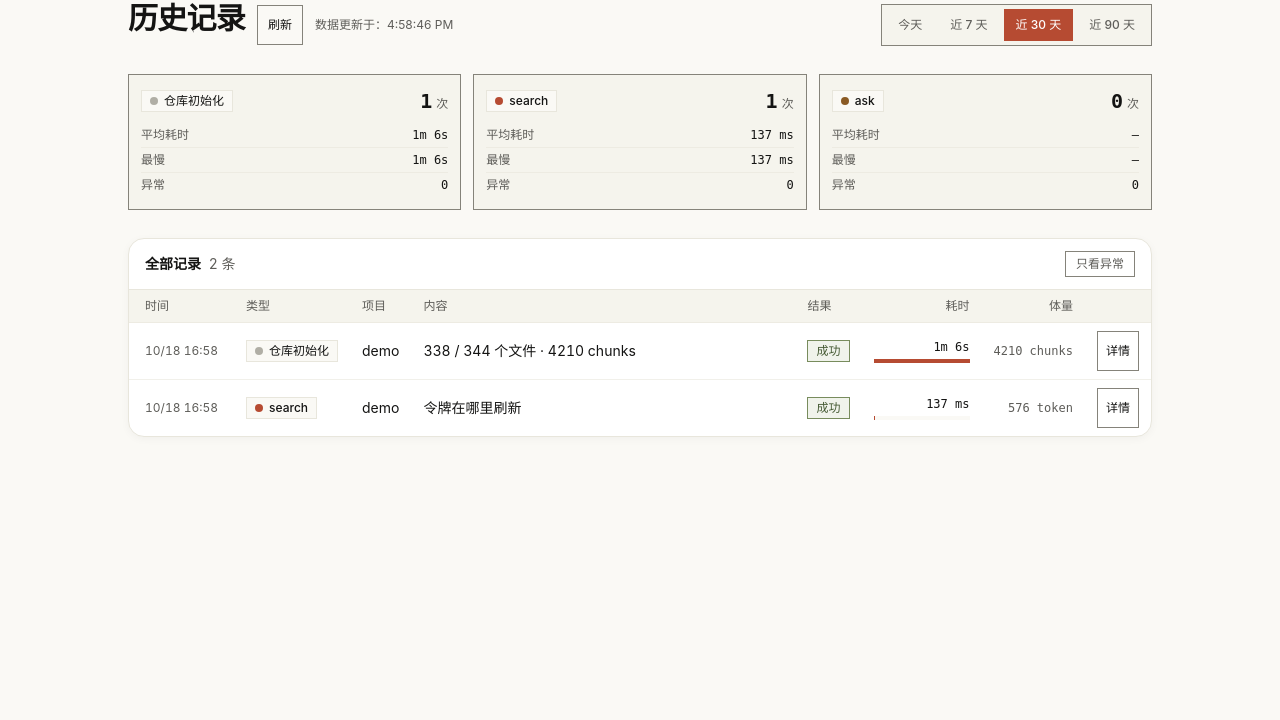
Test: §需求2 合并表格（TASK-100） › 弹窗可关闭
Click the button "详情" in the row of "令牌在哪里刷新" at (1118, 408), box x1=1097 y1=388 x2=1139 y2=428
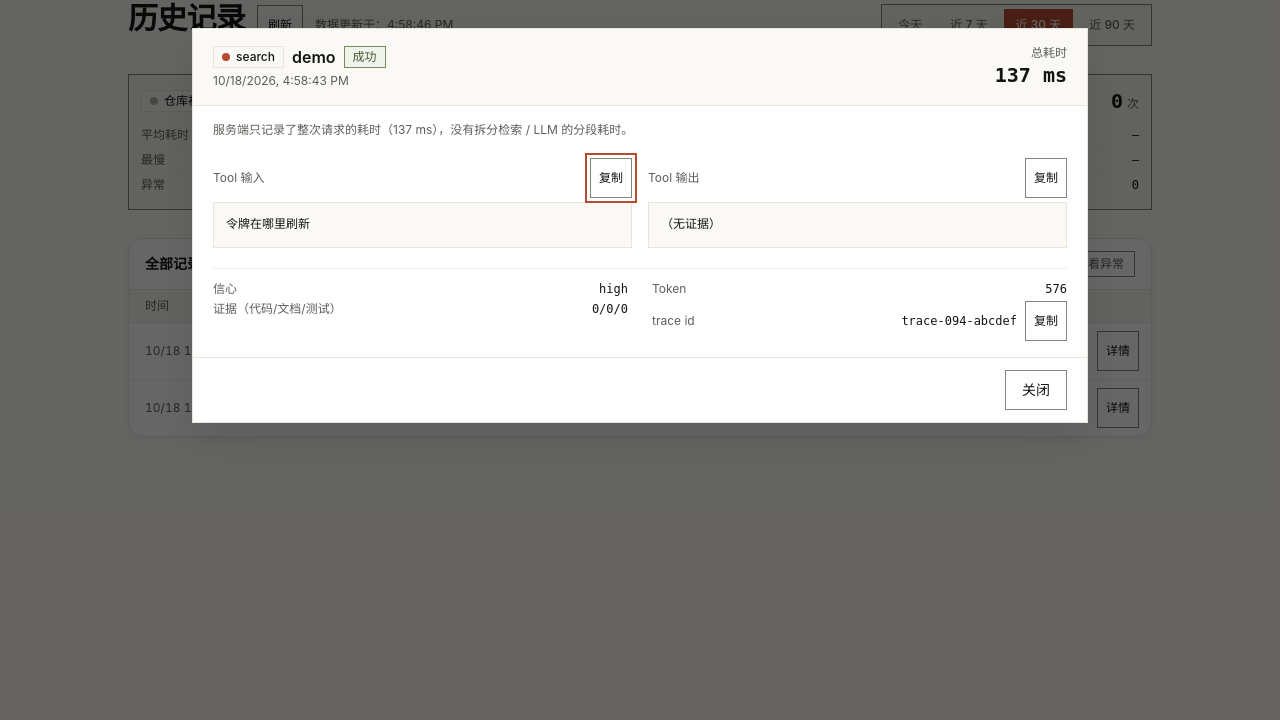
Click the button "关闭" at (1036, 390), box x1=1005 y1=370 x2=1067 y2=410
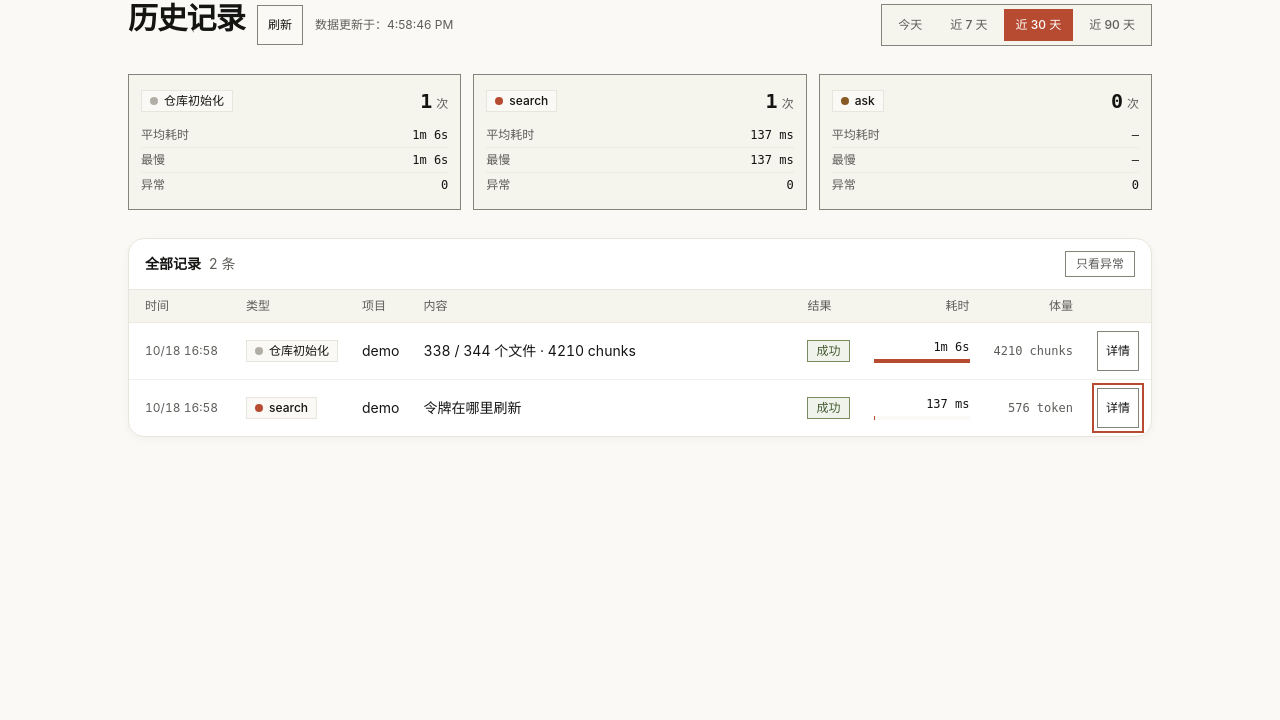
Expected: the dialog is gone
